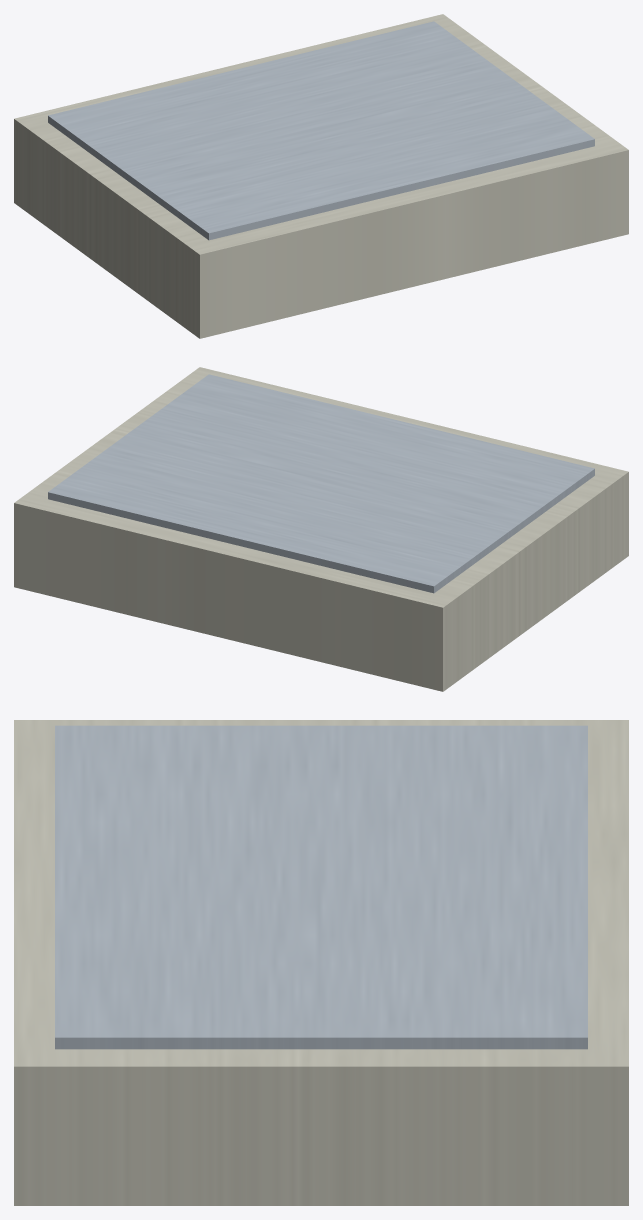
The picture shows the model from 3 angles, top to bottom: view 1: azimuth 30°, elevation 25°; view 2: azimuth 150°, elevation 25°; view 3: azimuth 270°, elevation 25°; orthographic projection. The views are drawn at different scales.
Visible parts, largest first — view 1: 291_L124_Y7__PSMAT__ceramic, 291_L124_Y7__PSMAT__silver; view 2: 291_L124_Y7__PSMAT__ceramic, 291_L124_Y7__PSMAT__silver; view 3: 291_L124_Y7__PSMAT__silver, 291_L124_Y7__PSMAT__ceramic.
Part boxes in pixels (x1,y1,x2,y2): 291_L124_Y7__PSMAT__ceramic: (14, 14, 628, 338); 291_L124_Y7__PSMAT__silver: (48, 21, 594, 240); 291_L124_Y7__PSMAT__ceramic: (14, 367, 628, 691); 291_L124_Y7__PSMAT__silver: (48, 374, 594, 593); 291_L124_Y7__PSMAT__silver: (55, 725, 587, 1049); 291_L124_Y7__PSMAT__ceramic: (14, 720, 628, 1205).
Bounding box in the file's own units: 0.008 × 0.00163 × 0.006.
Materials: 3 (3 with a texture image).
